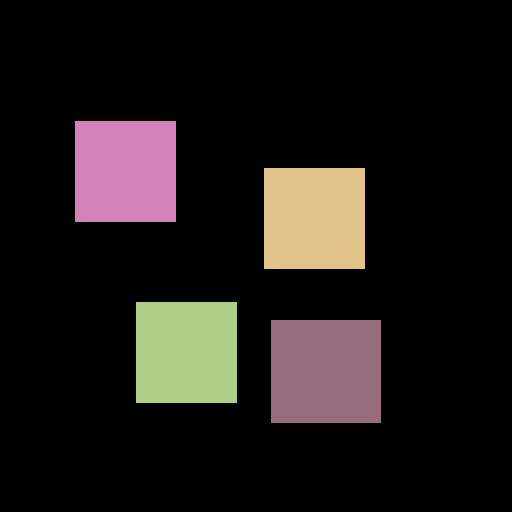square: (271, 320, 380, 422), (136, 302, 236, 402), (264, 168, 364, 268), (75, 121, 175, 221)
